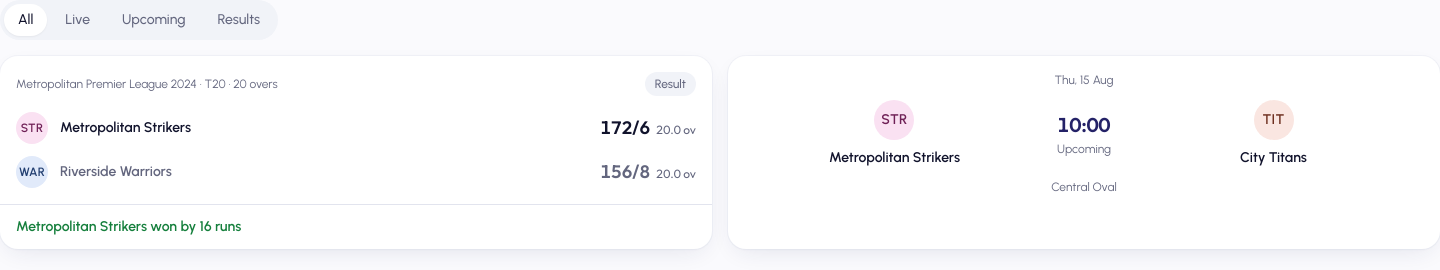
TeamMatchesView › filters matches by status
The width and height of the screenshot is (1440, 270).
Step 1. Click the button "Upcoming" → (154, 20), box [108,4,200,36]
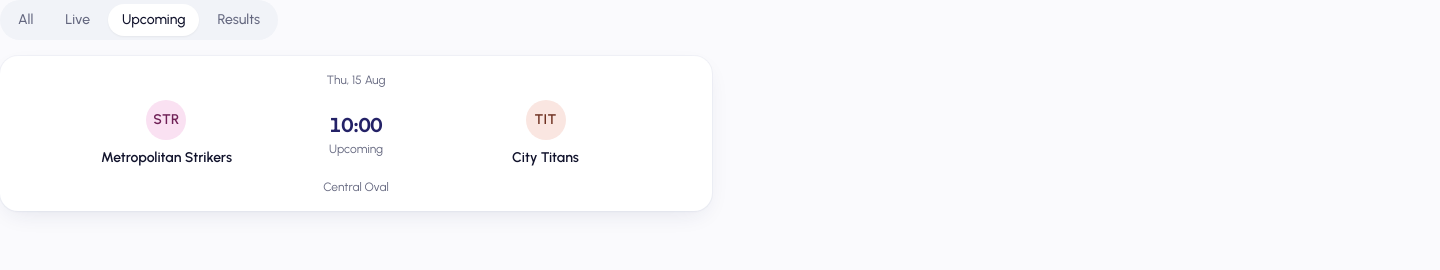
Expected: the text "City Titans" is shown, [512,148,579,167]
Expected: the link "Riverside Warriors" is gone
